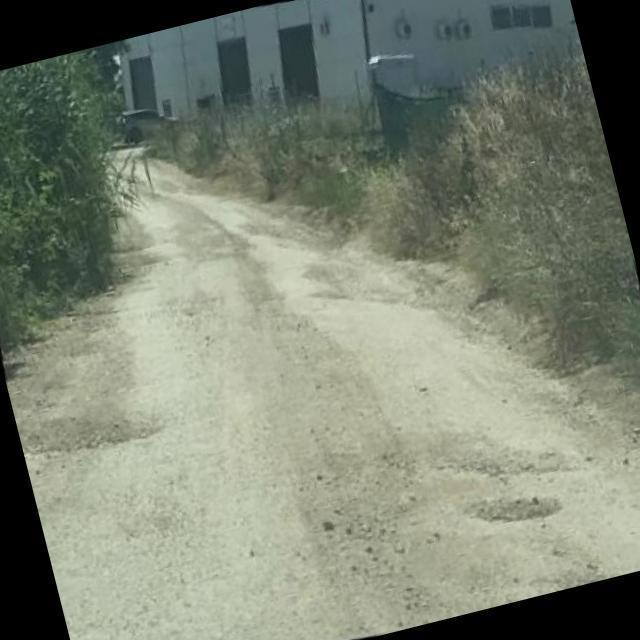Pothole: (464, 491, 562, 520)
